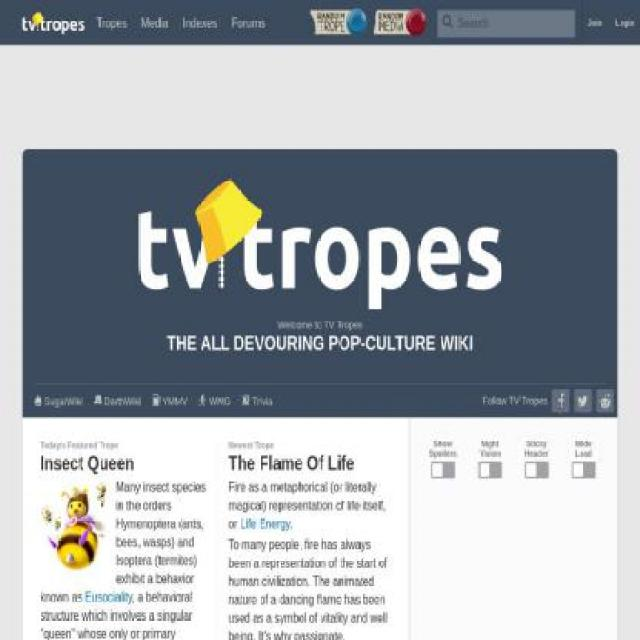button: (609, 0, 640, 46), (582, 0, 608, 45), (595, 390, 614, 412), (552, 390, 570, 412), (574, 390, 592, 412)
field: (438, 10, 576, 38), (438, 12, 457, 28)
